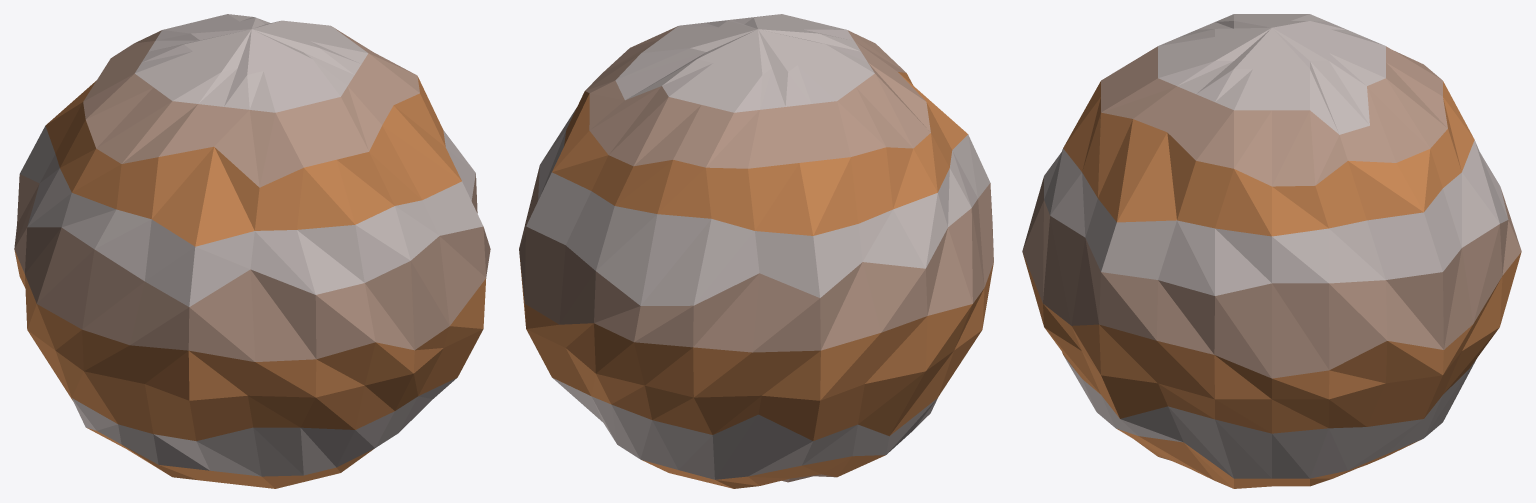
File: jupiter.glb
The picture shows the model from 3 angles, left to right: view 1: azimuth 30°, elevation 25°; view 2: azimuth 150°, elevation 25°; view 3: azimuth 270°, elevation 25°; orthographic projection.
Parts seen in each view (by area): view 1: Jupiter; view 2: Jupiter; view 3: Jupiter.
Boxes of the visible parts, box(x1,y1,x2,y2) form: Jupiter: box(14, 14, 490, 488); Jupiter: box(519, 14, 993, 488); Jupiter: box(1022, 14, 1521, 488).
Size of the model in its own units: 103 by 104 by 105.
1 material, 1 textured.
